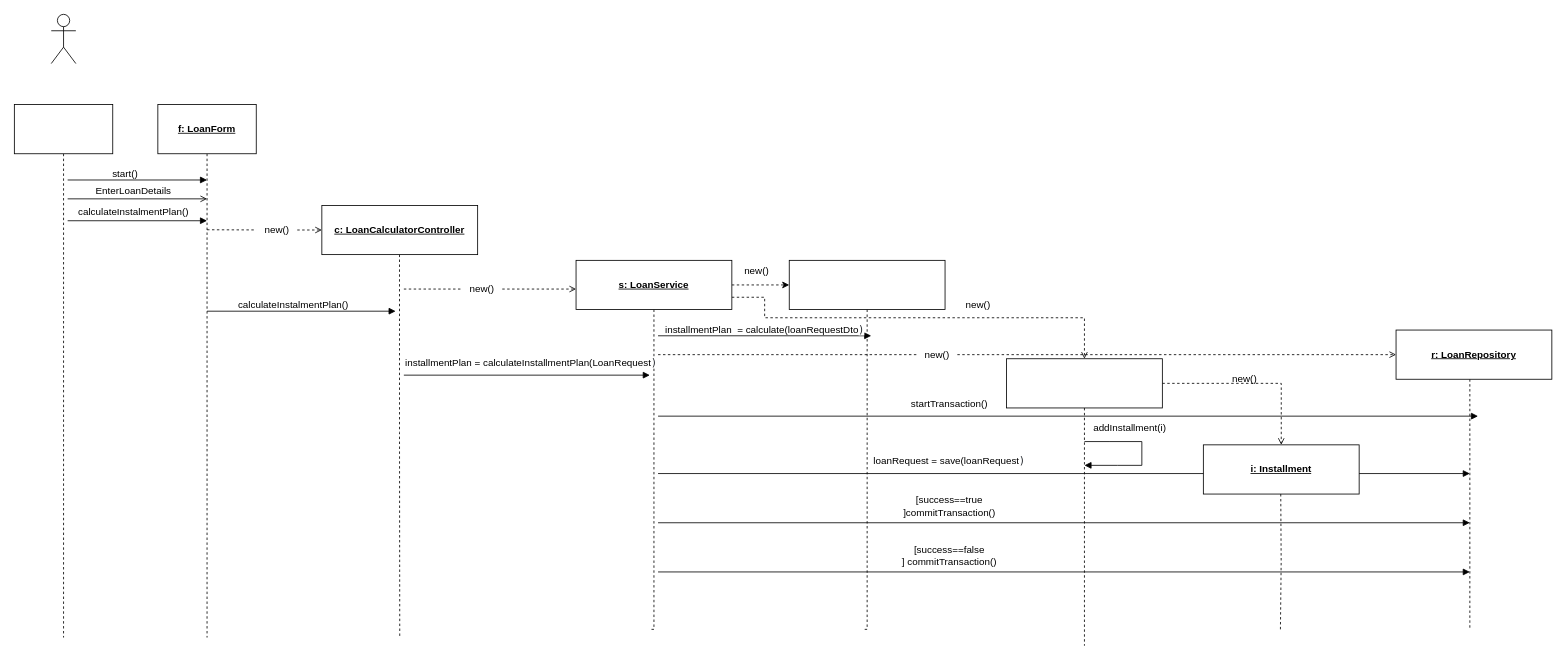
This 1566x661 diagram has some shape labels left out. Each missing label, with the centre of its shape:
Actor: the point at 63,39
c: Calculator: the point at 866,285
l: LoanRequest: the point at 1084,383
